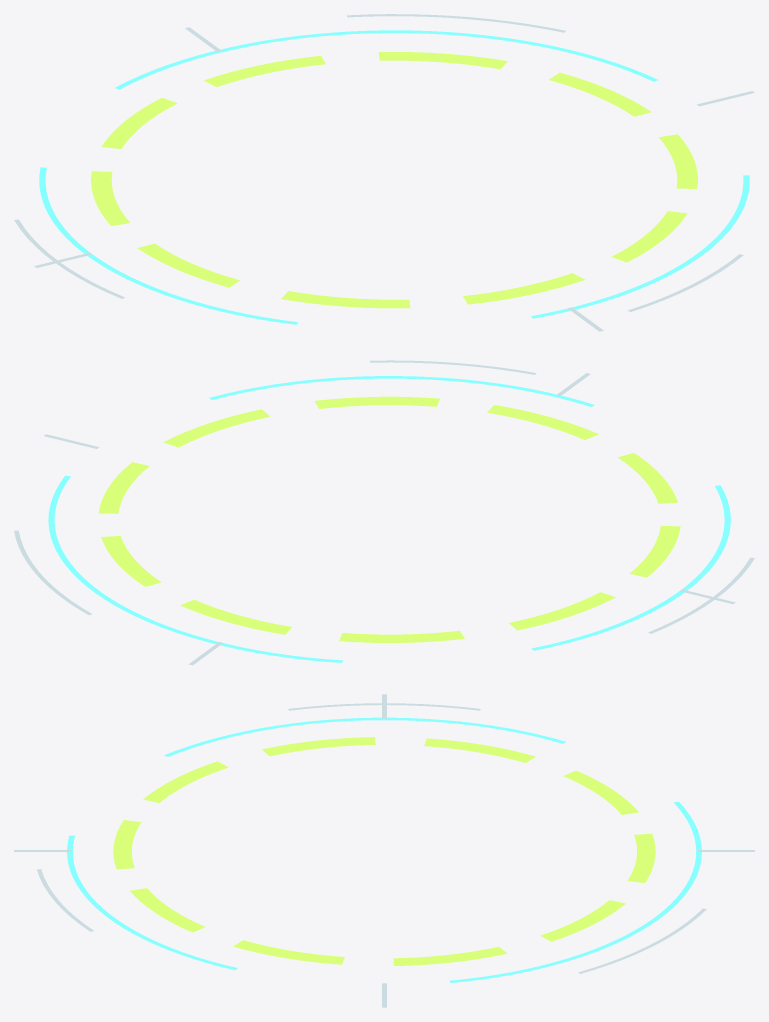
Rendered from SM_VR_StatusRing.fbx.
3 views of the same model, one above another, from view 1: azimuth 30°, elevation 25°; view 2: azimuth 150°, elevation 25°; view 3: azimuth 270°, elevation 25° (orthographic). The views are drawn at different scales.
Visible parts, largest first — view 1: SM_VR_StatusRing; view 2: SM_VR_StatusRing; view 3: SM_VR_StatusRing.
Boxes of the visible parts, x1,y1,x2,y2 form: SM_VR_StatusRing: (14, 14, 754, 331); SM_VR_StatusRing: (14, 360, 754, 665); SM_VR_StatusRing: (14, 694, 754, 1007).
Size of the model in its own units: 232 by 232 by 0.3.
